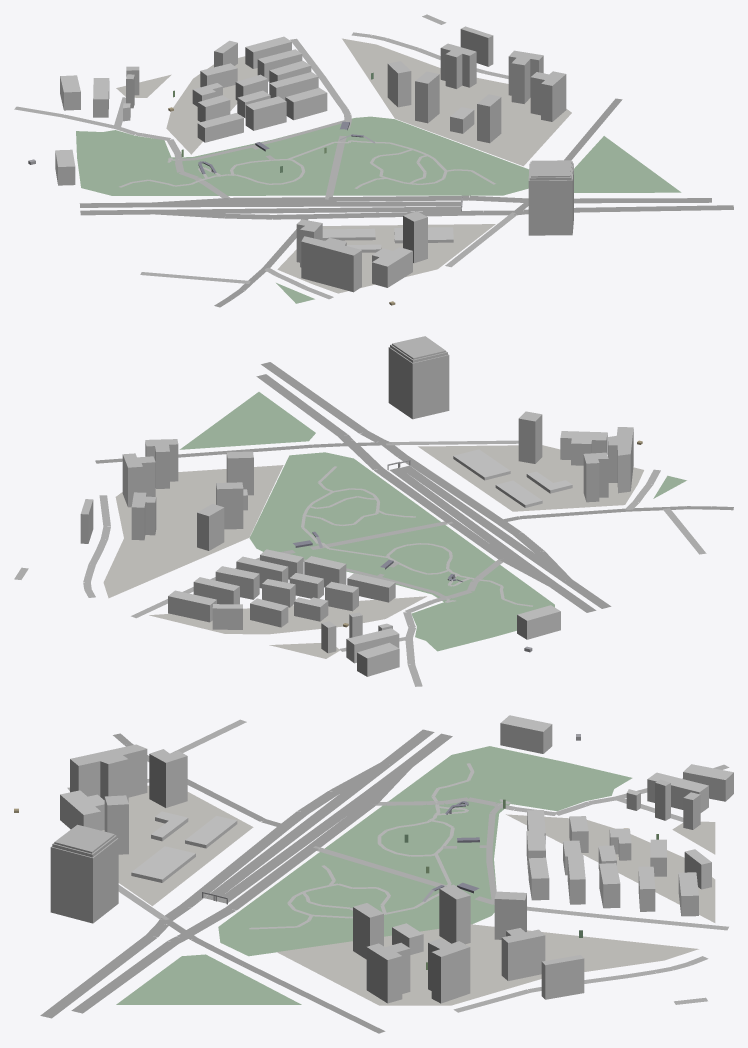
3 views of the same model, one above another, from view 1: azimuth 30°, elevation 25°; view 2: azimuth 150°, elevation 25°; view 3: azimuth 270°, elevation 25° (orthographic). The views are drawn at different scales.
Bounding box in the file's own units: 585 × 73.24 × 563.
